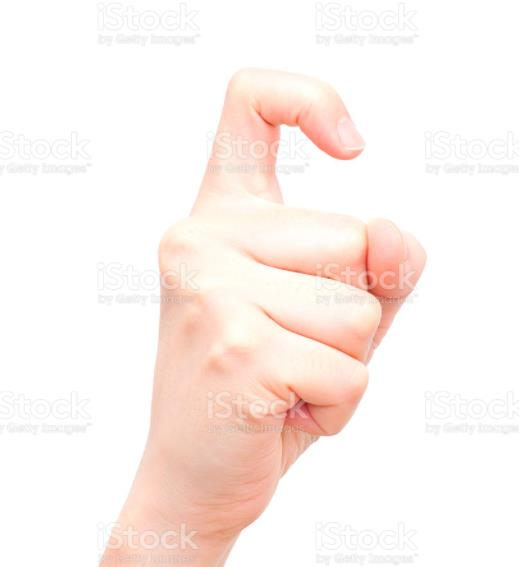anticlockwise: (133, 63, 436, 498)
